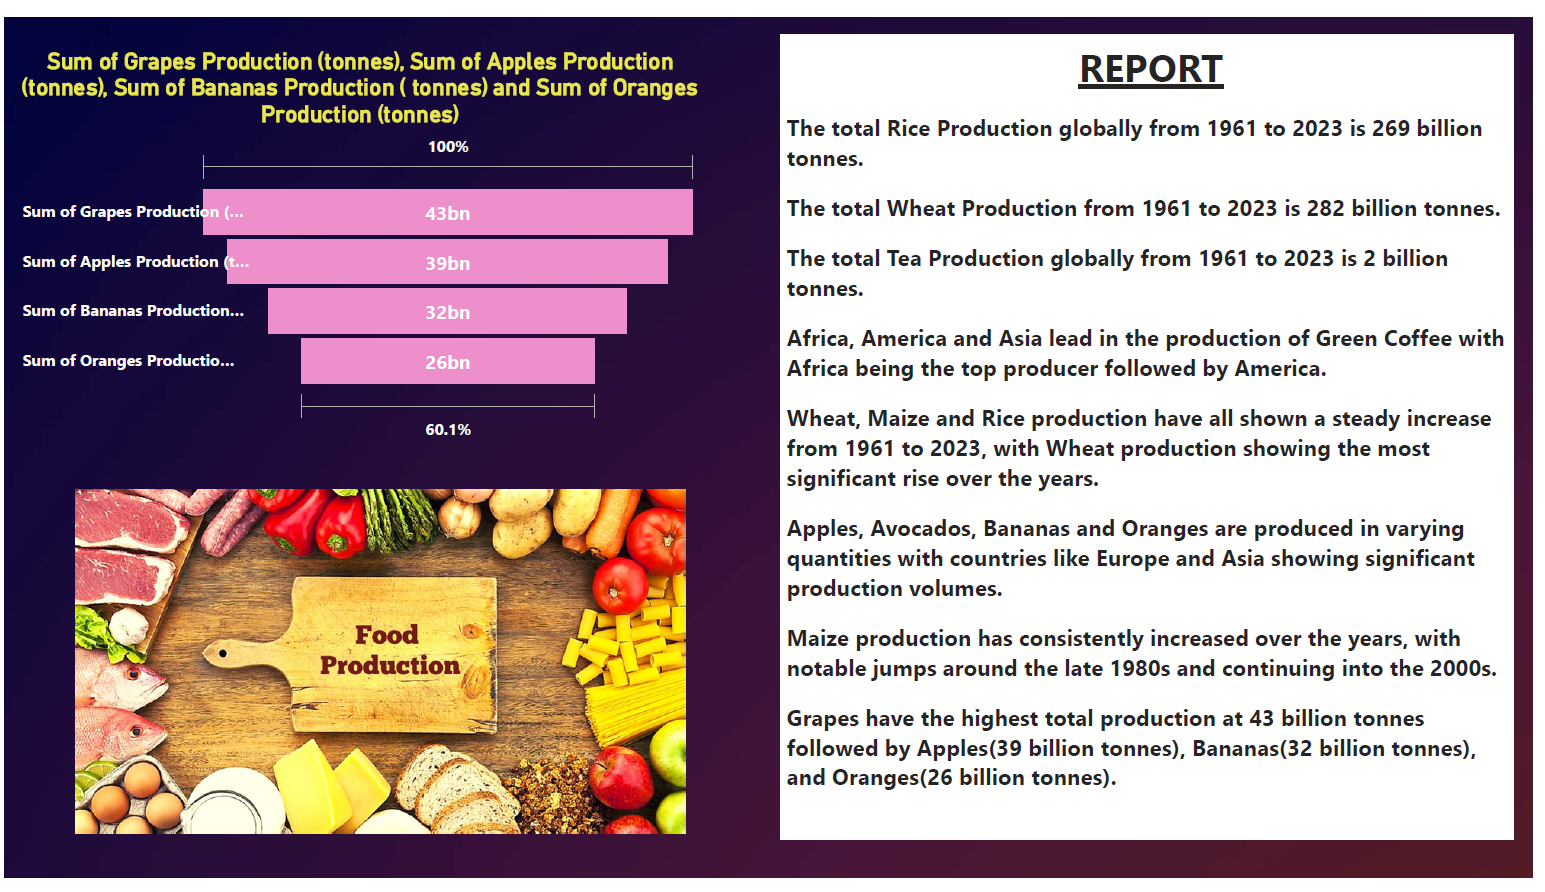

The dashboard page shown, as its layout file describes it:
{"tool":"powerbi","page":{"name":"Report","canvas":[1280,720],"ordinal":1},"visuals":[{"type":"funnel","fields":{"Y":["Sum(world food production.Grapes  Production (tonnes))","Sum(world food production.Apples Production (tonnes))","Sum(world food production.Bananas  Production ( tonnes))","Sum(world food production.Oranges  Production (tonnes))"]},"box":[9.7,25.3,576.7,334.2],"z":0},{"type":"image","box":[42.2,389.7,544.1,298],"z":1},{"type":"textbox","box":[650.3,14.5,614.1,673.2],"z":2}]}

Visuals, with their boxes in screenshot pixels (x1, y1, x2, y2), scaled from the page's 1280x720 canvas onto the 1545x892 screenshot:
funnel - Sum(world food production.Grapes  Production (tonnes)) x Sum(world food production.Apples Production (tonnes)): (12, 31, 708, 445)
image: (51, 483, 708, 852)
textbox: (785, 18, 1526, 852)
